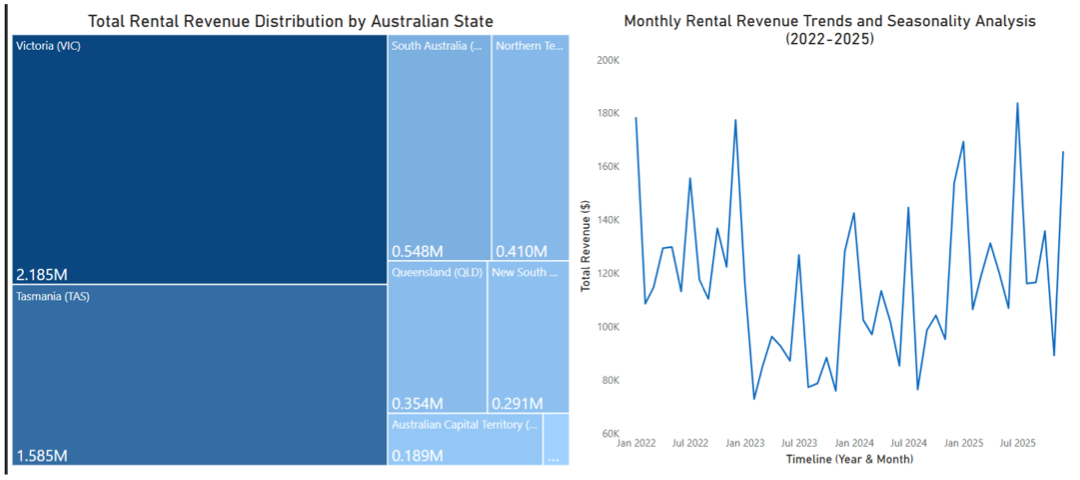

This screenshot's page, from the dashboard's own definition file:
{"tool":"powerbi","page":{"name":"Geographical & Temporal Performance","canvas":[1280,720],"ordinal":2},"visuals":[{"type":"treemap","title":"Total Rental Revenue Distribution by Australian State","fields":{"Group":["Dataset.State"],"Values":["Sum(Dataset.Revenue)"]},"box":[0,34.1,672.2,544.8],"z":0},{"type":"lineChart","title":"Monthly Rental Revenue Trends and Seasonality Analysis (2022-2025)","fields":{"Y":["Sum(Dataset.Revenue)"],"Category":["Dataset.Date.Variation.Date Hierarchy.Year","Dataset.Date.Variation.Date Hierarchy.Month"]},"box":[672.2,34.1,607.8,544.8],"z":1000}]}

Visuals, with their boxes on the page's 1280x720 design canvas (x1, y1, x2, y2). These are canvas units, not pixel positions in the 1080x480 screenshot, which may show the page scaled, cropped or inside an application window:
"Total Rental Revenue Distribution by Australian State" treemap: 0, 34, 672, 579
"Monthly Rental Revenue Trends and Seasonality Analysis (2022-2025)" lineChart: 672, 34, 1280, 579
